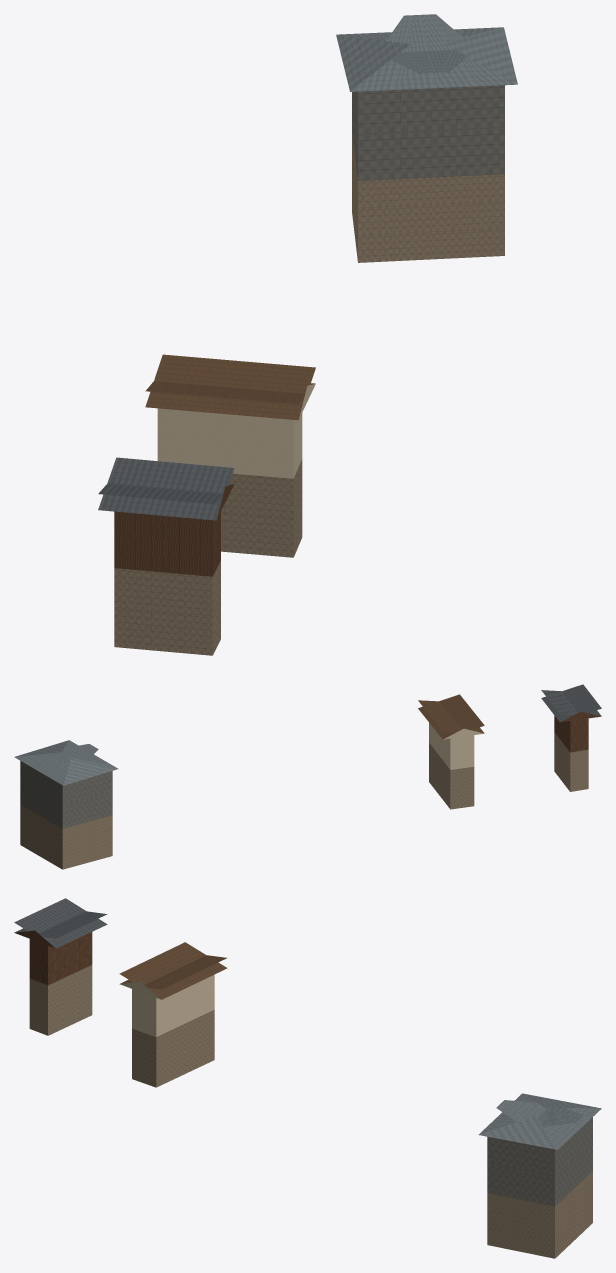
File: bld_c9_15_457.gltf
3 views of the same model, one above another, from view 1: azimuth 30°, elevation 25°; view 2: azimuth 150°, elevation 25°; view 3: azimuth 270°, elevation 25° (orthographic). The views are drawn at different scales.
Visible parts, largest first — view 1: bld_c9_15_457; view 2: bld_c9_15_457; view 3: bld_c9_15_457.
Part boxes in pixels (x1,y1,x2,y2): bld_c9_15_457: (98, 14, 517, 655); bld_c9_15_457: (14, 684, 601, 869); bld_c9_15_457: (14, 898, 601, 1258).
Bounding box in the file's own units: 51.54 × 11.9 × 51.91.
9 materials, 9 textured.
